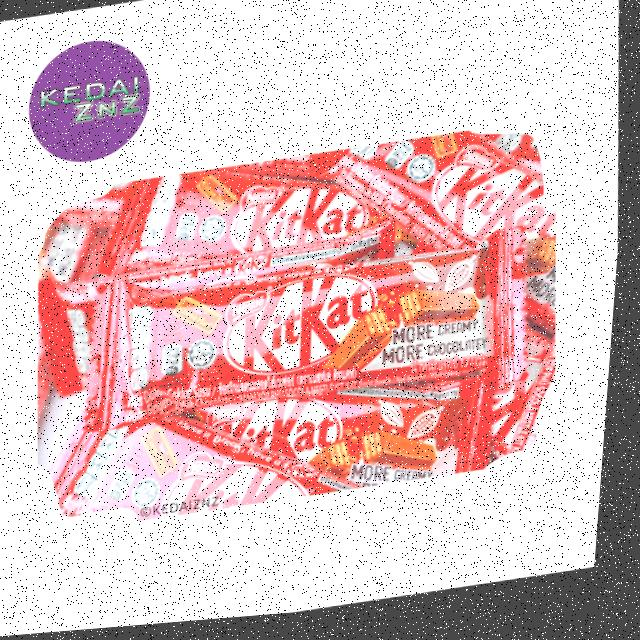kitkat: (81, 225, 531, 427), (332, 121, 575, 376), (101, 146, 435, 330), (167, 362, 517, 517)
